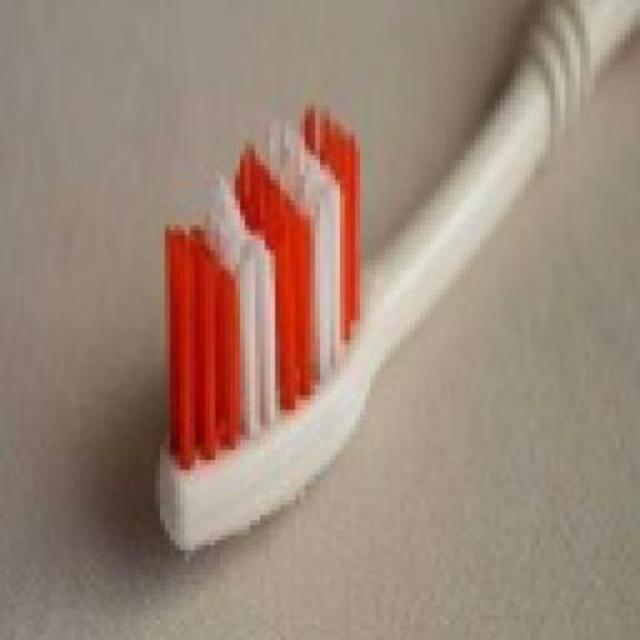toothbrush: (81, 30, 553, 592)
